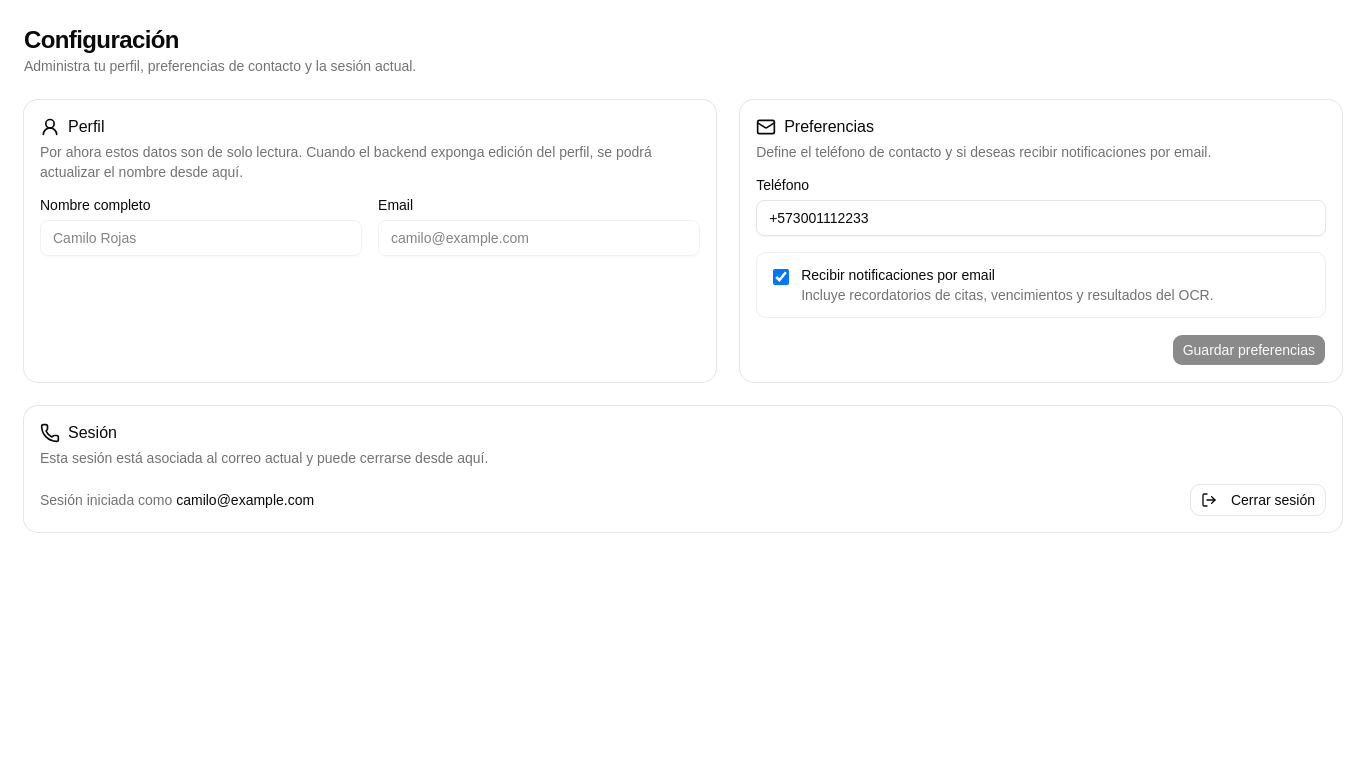
Scenario: SettingsPage › renders profile information and saves preferences
The width and height of the screenshot is (1366, 768).
Expected: the field showing "Camilo Rojas" is shown, [40, 220, 362, 256]
Expected: the field showing "camilo@example.com" is shown, [378, 220, 700, 256]
Replace the text in the field labelled "Teléfono" with "+573204445566": (1041, 218) [756, 200, 1326, 236]
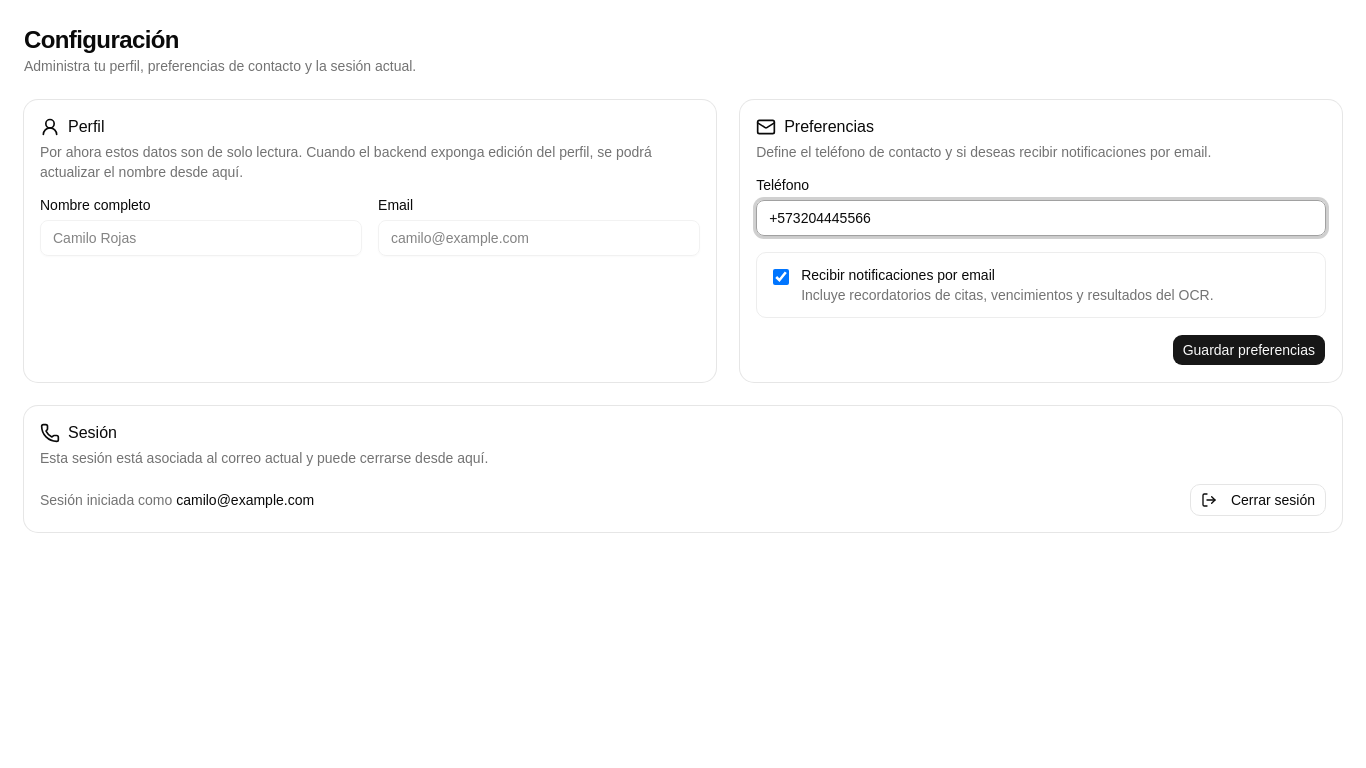
Click the checkbox labelled "Recibir notificaciones por email": (781, 277) [773, 269, 789, 285]
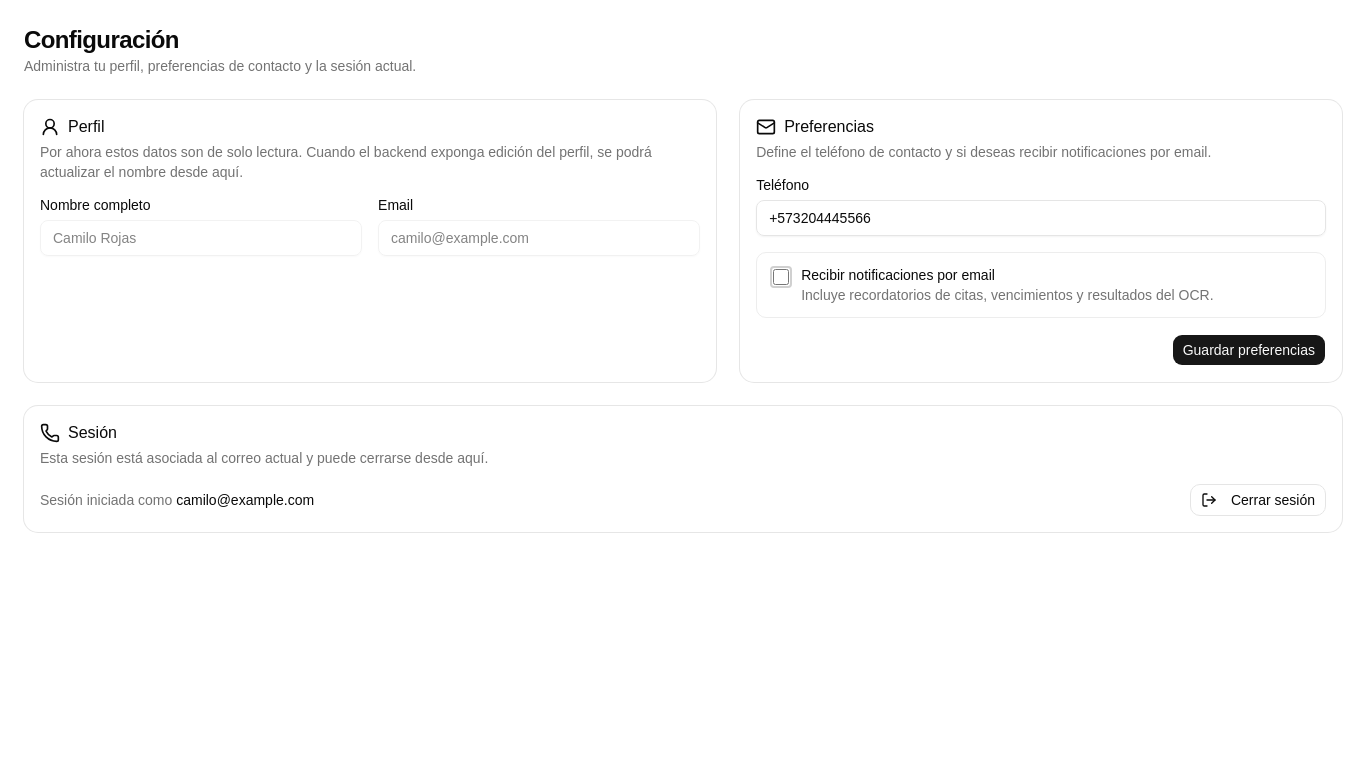
Click the button "Guardar preferencias": (1249, 350) [1172, 334, 1326, 366]
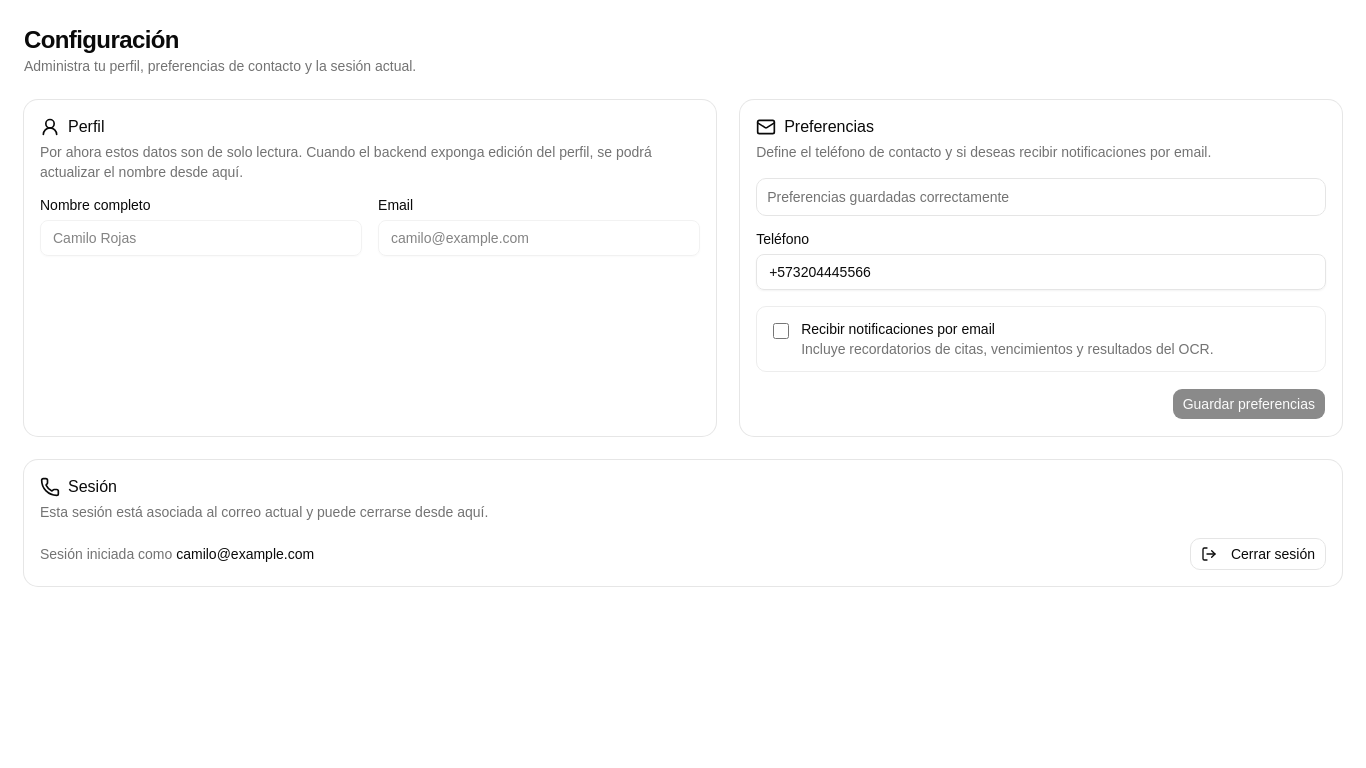
Expected: the text "Preferencias guardadas correctamente" is shown, [767, 189, 1009, 205]
